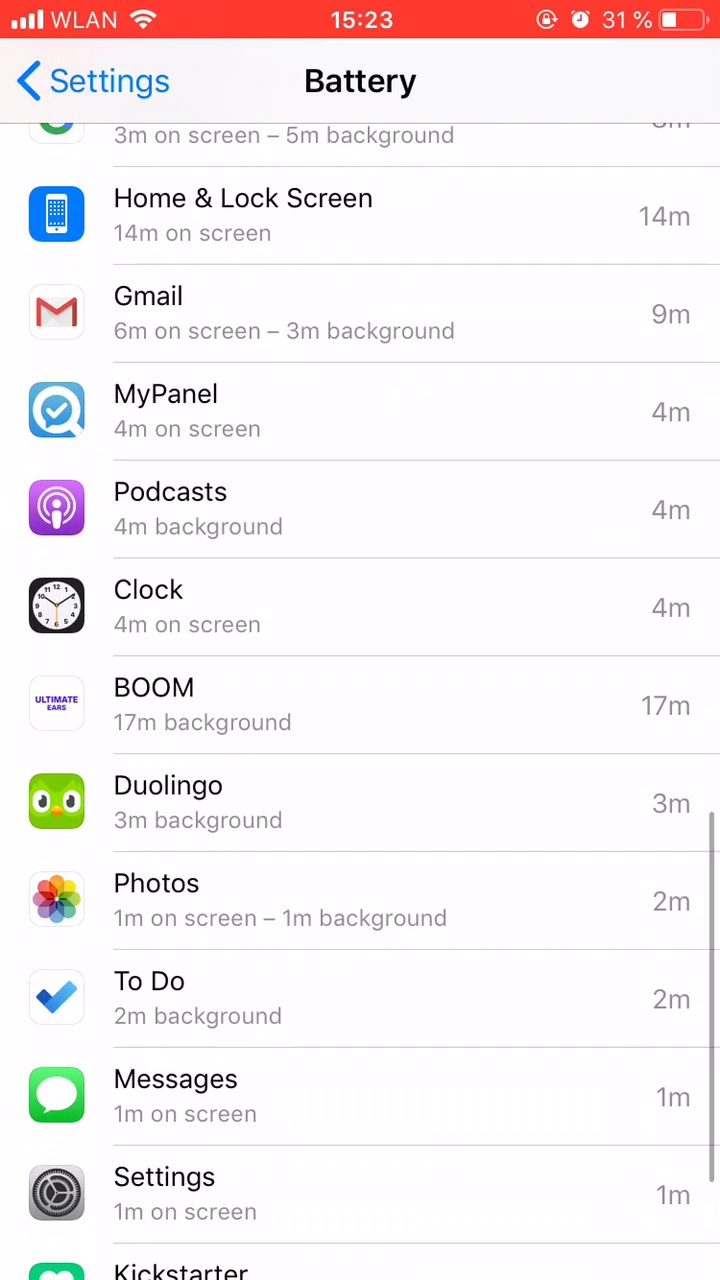app: (23, 175, 698, 254), (30, 279, 705, 358), (21, 374, 696, 453), (26, 465, 701, 544), (28, 565, 703, 644), (28, 670, 703, 749), (23, 768, 698, 847), (28, 868, 703, 947), (26, 960, 701, 1039), (26, 1056, 701, 1135), (24, 1054, 699, 1133), (26, 1154, 701, 1233), (24, 1152, 699, 1231)
